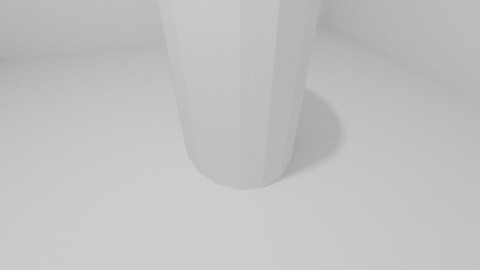cheminee: (157, 1, 322, 190)
